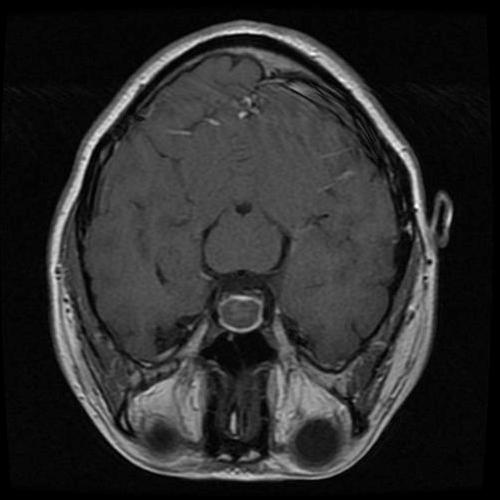Tumour-Pituitary: (215, 289, 263, 335)
